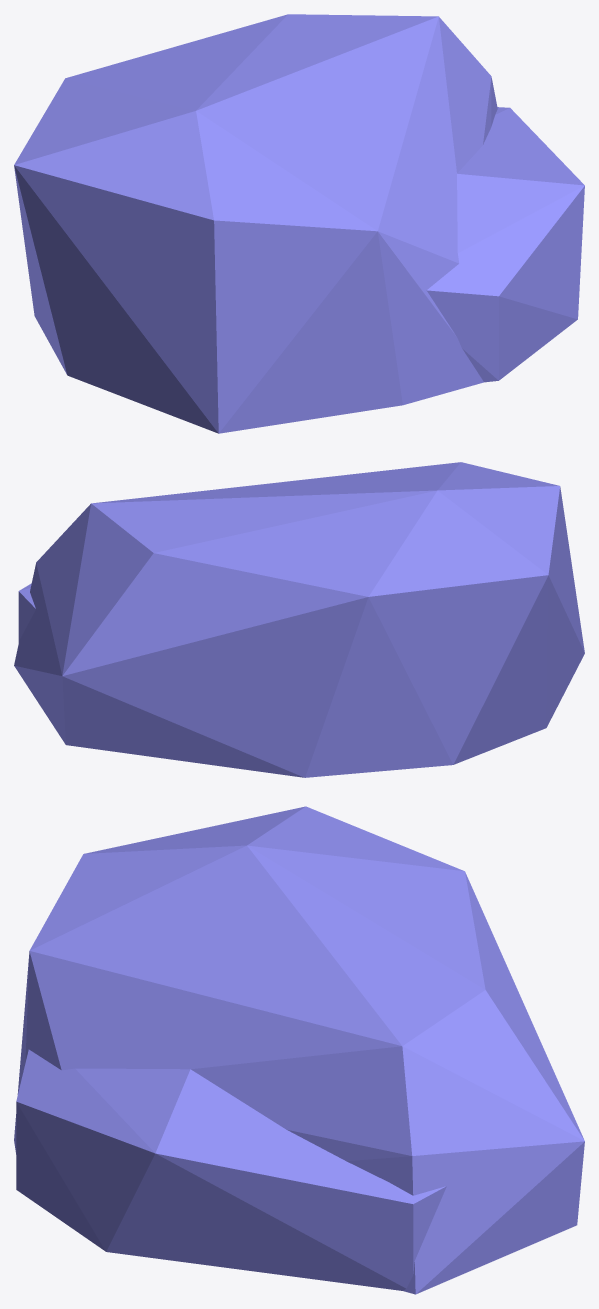
The model's file is Plate_08_Collider_01.FBX.
3 renders of one model, top to bottom at view 1: azimuth 30°, elevation 25°; view 2: azimuth 150°, elevation 25°; view 3: azimuth 270°, elevation 25°, orthographic. The views are drawn at different scales.
Visible parts, largest first — view 1: COLLIDER1, COLLIDER2; view 2: COLLIDER1, COLLIDER2; view 3: COLLIDER1, COLLIDER2.
Boxes of the visible parts, x1,y1,x2,y2 form: COLLIDER1: (14, 14, 497, 433); COLLIDER2: (426, 107, 584, 382); COLLIDER1: (14, 462, 584, 777); COLLIDER2: (18, 583, 35, 642); COLLIDER1: (14, 806, 584, 1294); COLLIDER2: (16, 1049, 446, 1290).
Size of the model in its own units: 88.83 by 38.13 by 76.27.
